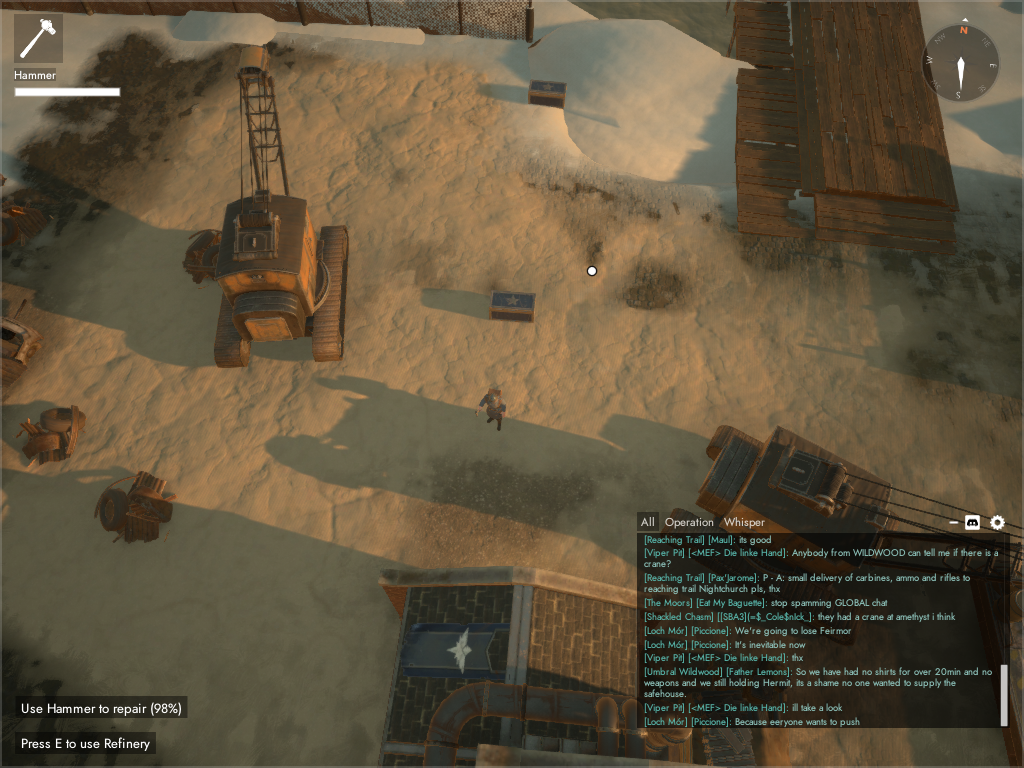crane: (658, 424, 1024, 649), (213, 44, 348, 369)
player: (473, 388, 507, 431)
scrap: (90, 465, 185, 547), (13, 399, 87, 466), (1, 298, 44, 390), (1, 187, 59, 248), (181, 229, 222, 285)
storage_box: (487, 288, 536, 323), (525, 77, 571, 111)
